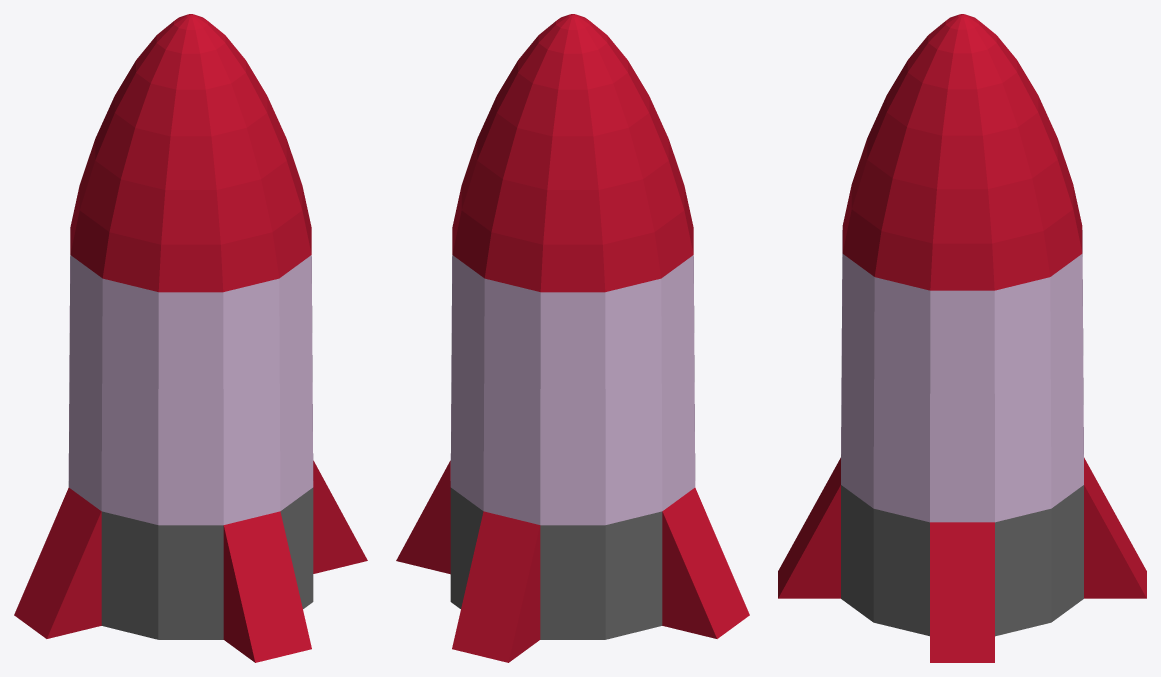
Rendered from rocket.fbx.
3 views of the same model, side by side, from view 1: azimuth 30°, elevation 25°; view 2: azimuth 150°, elevation 25°; view 3: azimuth 270°, elevation 25° (orthographic).
Visible parts, largest first — view 1: Cylinder; view 2: Cylinder; view 3: Cylinder.
Part boxes in pixels (x1,y1,x2,y2): Cylinder: (14, 14, 367, 662); Cylinder: (396, 14, 749, 662); Cylinder: (778, 14, 1146, 662).
Bounding box in the file's own units: 293 × 500 × 293.
